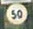limite 50: (4, 2, 28, 24)
